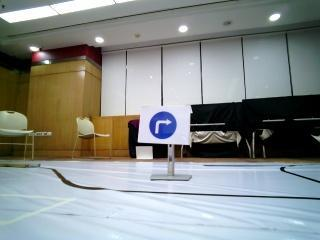right: (138, 103, 187, 143)
